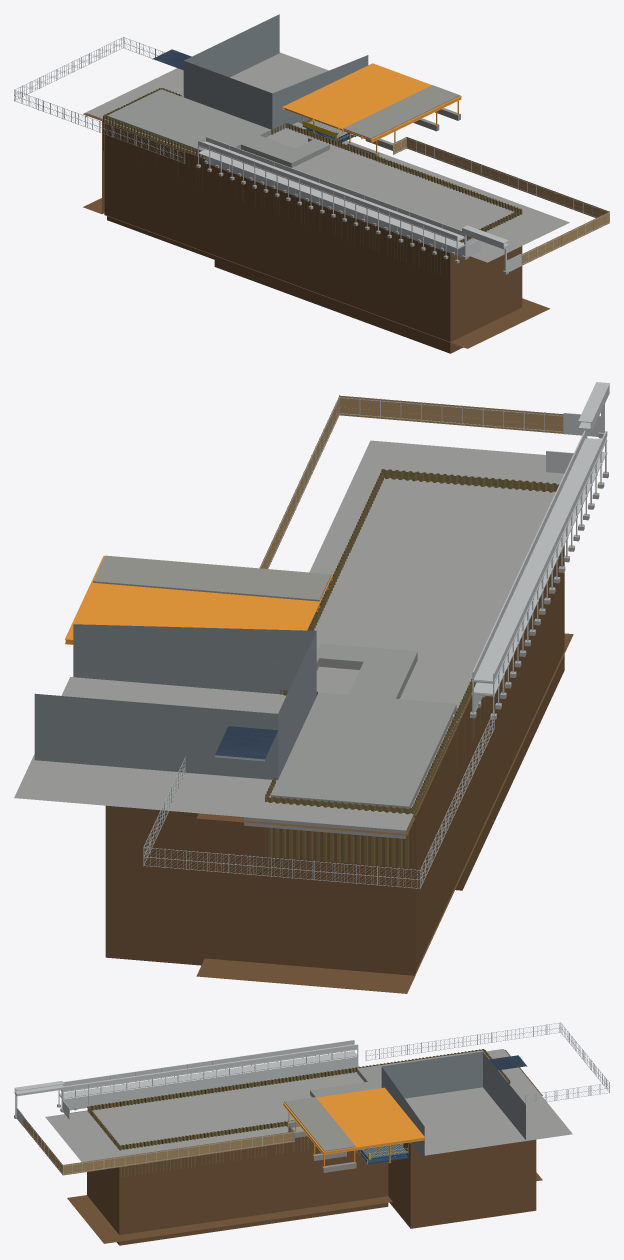
The model's file is sequence_removal.glb.
3 views of the same model, one above another, from view 1: azimuth 30°, elevation 25°; view 2: azimuth 150°, elevation 25°; view 3: azimuth 270°, elevation 25° (orthographic). The views are drawn at different scales.
Parts seen in each view (by area): view 1: removal_g0_ground, removal_g107_interior, removal_g0_roof, removal_g0_temporary.003, removal_g9_structure, removal_g0_temporary.001, removal_g0_temporary.006, removal_g0_temporary.004, removal_g0_temporary.002, removal_g0_interior, removal_g0_temporary.007, removal_g0_temporary.005 (+1 smaller); view 2: removal_g0_ground, removal_g107_interior, removal_g0_roof, removal_g9_structure, removal_g0_interior, removal_g0_temporary.003, removal_g0_temporary.001, removal_g0_temporary.002, removal_g0_temporary.006, removal_g0_temporary.004, removal_g0_temporary.007, removal_g0_canopy (+1 smaller); view 3: removal_g0_ground, removal_g107_interior, removal_g0_temporary.003, removal_g0_interior, removal_g0_roof, removal_g0_temporary.001, removal_g0_temporary.004, removal_g0_temporary.006, removal_g0_temporary.002, removal_g0_temporary.007, removal_g9_structure, removal_g0_temporary (+3 smaller).
Boxes of the visible parts, x1,y1,x2,y2 form: removal_g0_ground: (83,113,549,353); removal_g107_interior: (85,81,569,262); removal_g0_roof: (183,14,368,133); removal_g0_temporary.003: (198,138,521,271); removal_g9_structure: (107,89,329,164); removal_g0_temporary.001: (282,63,461,139); removal_g0_temporary.006: (393,137,609,265); removal_g0_temporary.004: (197,137,609,271); removal_g0_temporary.002: (343,85,460,156); removal_g0_interior: (149,52,328,93); removal_g0_temporary.007: (14,37,185,163); removal_g0_temporary.005: (196,160,508,274); removal_g0_ground: (105,545,573,993); removal_g107_interior: (244,440,563,838); removal_g0_roof: (34,624,316,780); removal_g9_structure: (271,643,456,808); removal_g0_interior: (14,677,286,816); removal_g0_temporary.003: (472,382,609,711); removal_g0_temporary.001: (65,556,332,640); removal_g0_temporary.002: (93,555,331,630); removal_g0_temporary.006: (260,395,563,568); removal_g0_temporary.004: (259,391,609,714); removal_g0_temporary.007: (143,709,494,889); removal_g0_canopy: (215,726,278,759); removal_g0_ground: (67,1050,542,1245); removal_g107_interior: (45,1049,531,1161); removal_g0_temporary.003: (14,1041,357,1126); removal_g0_interior: (407,1084,572,1155); removal_g0_roof: (381,1051,525,1158); removal_g0_temporary.001: (283,1087,424,1152); removal_g0_temporary.004: (14,1040,358,1175); removal_g0_temporary.006: (23,1116,293,1175); removal_g0_temporary.002: (284,1097,356,1172); removal_g0_temporary.007: (365,1022,609,1103); removal_g9_structure: (310,1050,506,1097); removal_g0_temporary: (283,1103,425,1167).
Bounding box in the file's own units: 72.46 × 31.34 × 128.
Materials: 530 (1 with a texture image).
